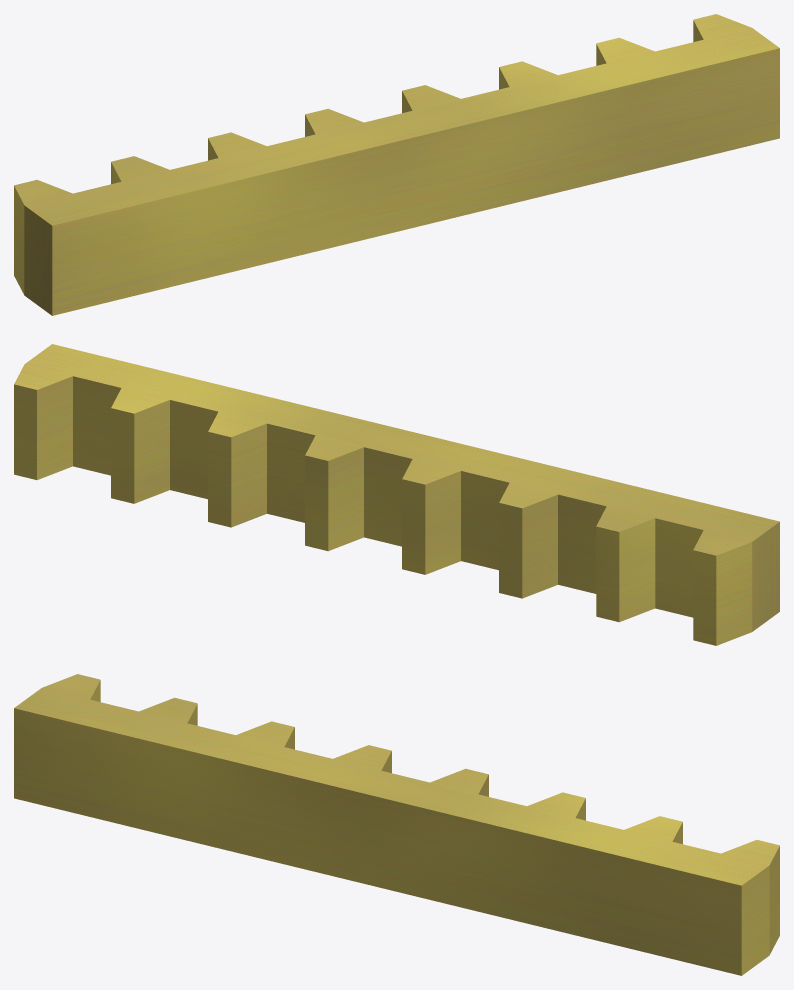
File: StraightCog008.fbx
3 views of the same model, one above another, from view 1: azimuth 30°, elevation 25°; view 2: azimuth 150°, elevation 25°; view 3: azimuth 330°, elevation 25° (orthographic).
Visible parts, largest first — view 1: StraightCog008; view 2: StraightCog008; view 3: StraightCog008.
Part boxes in pixels (<box>): StraightCog008: <box>14,14,779,315</box>; StraightCog008: <box>14,344,779,645</box>; StraightCog008: <box>14,674,779,975</box>.
Bounding box in the file's own units: 177 × 20.95 × 21.44.
